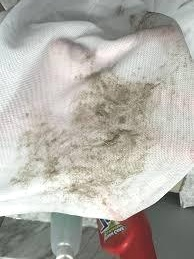earth: (70, 81, 157, 188)
